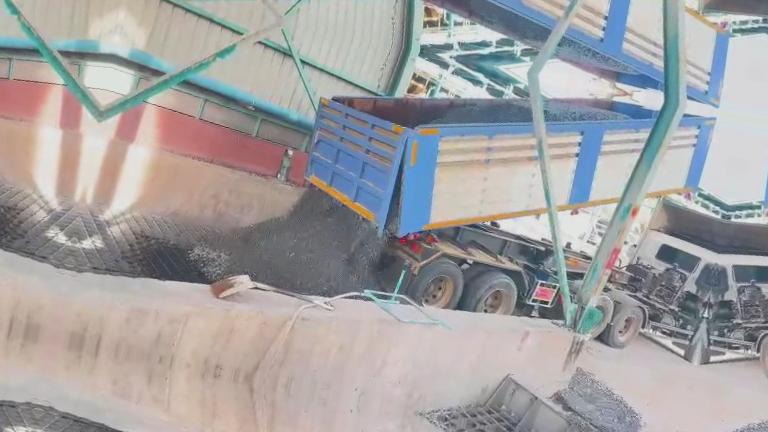gravel: (188, 187, 384, 295), (552, 368, 642, 432), (428, 98, 532, 123), (544, 100, 629, 121)
